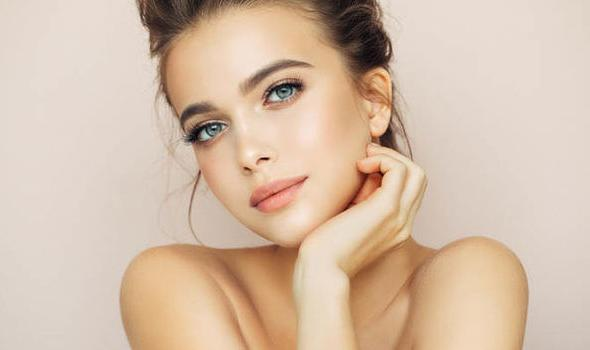face: (158, 7, 365, 249)
